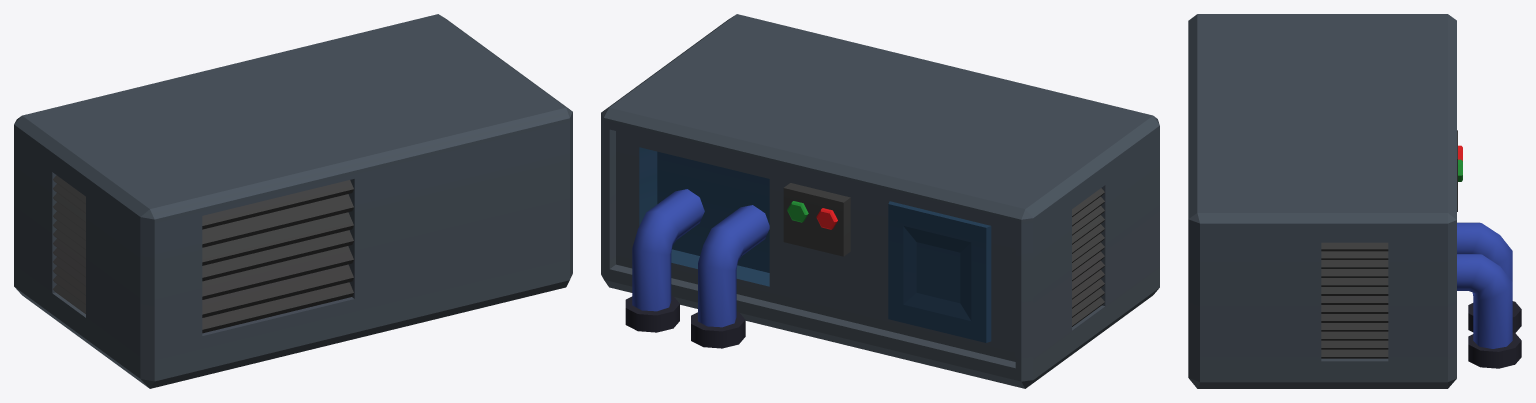
Rendered from Vent_4_C.glb.
The picture shows the model from 3 angles, left to right: view 1: azimuth 30°, elevation 25°; view 2: azimuth 150°, elevation 25°; view 3: azimuth 270°, elevation 25°; orthographic projection. The views are drawn at different scales.
Parts seen in each view (by area): view 1: Vent_4_C; view 2: Vent_4_C; view 3: Vent_4_C.
Boxes of the visible parts, x1,y1,x2,y2 form: Vent_4_C: (14,14,572,388); Vent_4_C: (601,14,1159,388); Vent_4_C: (1188,14,1521,388).
Size of the model in its own units: 1.01 by 0.4011 by 0.6882.
1 material, 1 textured.
